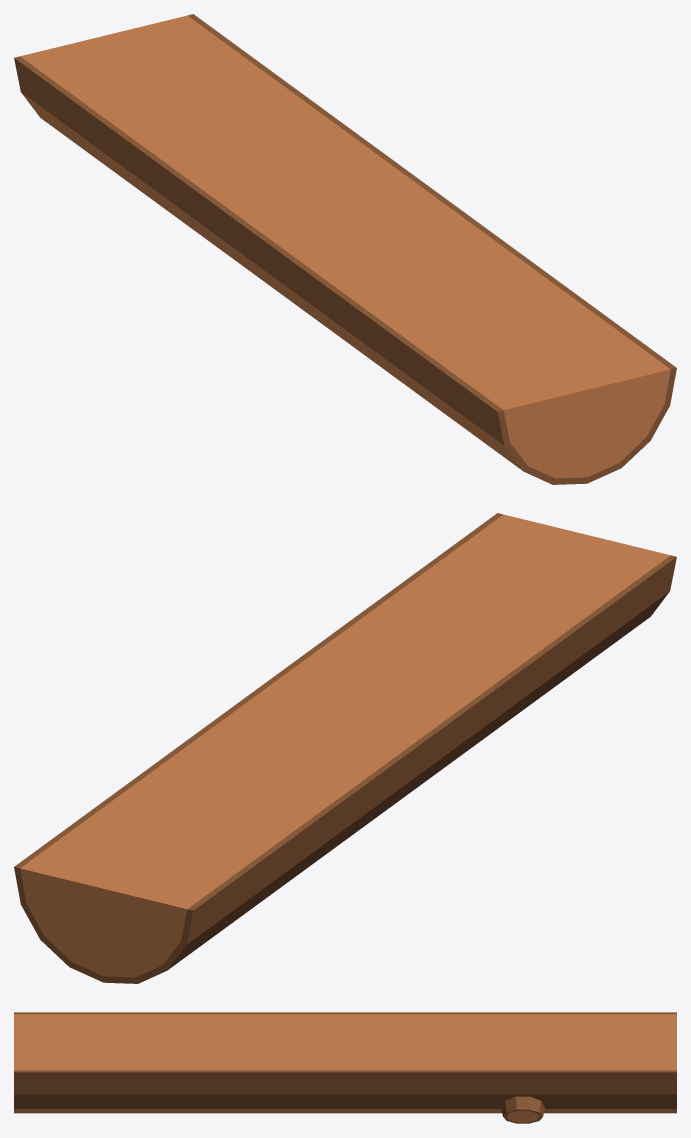
Rendered from tree_trunks_03.fbx.
3 renders of one model, top to bottom at view 1: azimuth 30°, elevation 25°; view 2: azimuth 150°, elevation 25°; view 3: azimuth 270°, elevation 25°, orthographic. The views are drawn at different scales.
Visible parts, largest first — view 1: Cylinder005; view 2: Cylinder005; view 3: Cylinder005.
Boxes of the visible parts, x1=… form: Cylinder005: x1=14, y1=14, x2=676, y2=484; Cylinder005: x1=14, y1=513, x2=676, y2=983; Cylinder005: x1=14, y1=1012, x2=676, y2=1123.
Size of the model in its own units: 90.38 by 45 by 420.
1 material, 1 textured.
